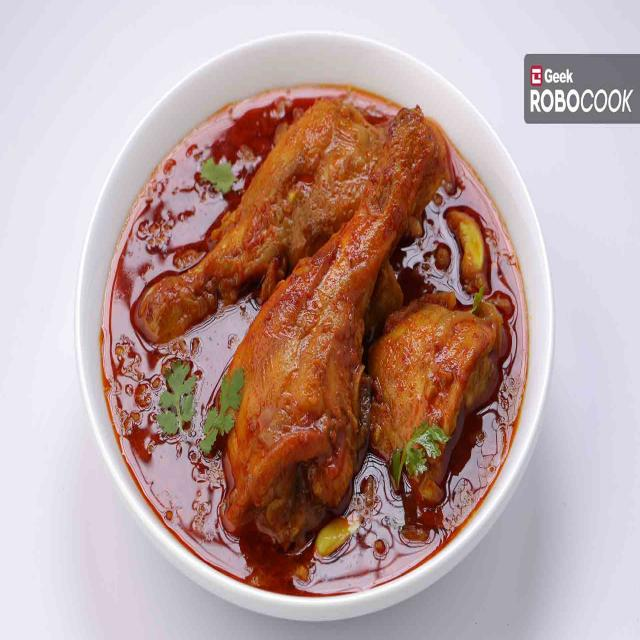Chicken Gravy: (96, 84, 529, 617)
